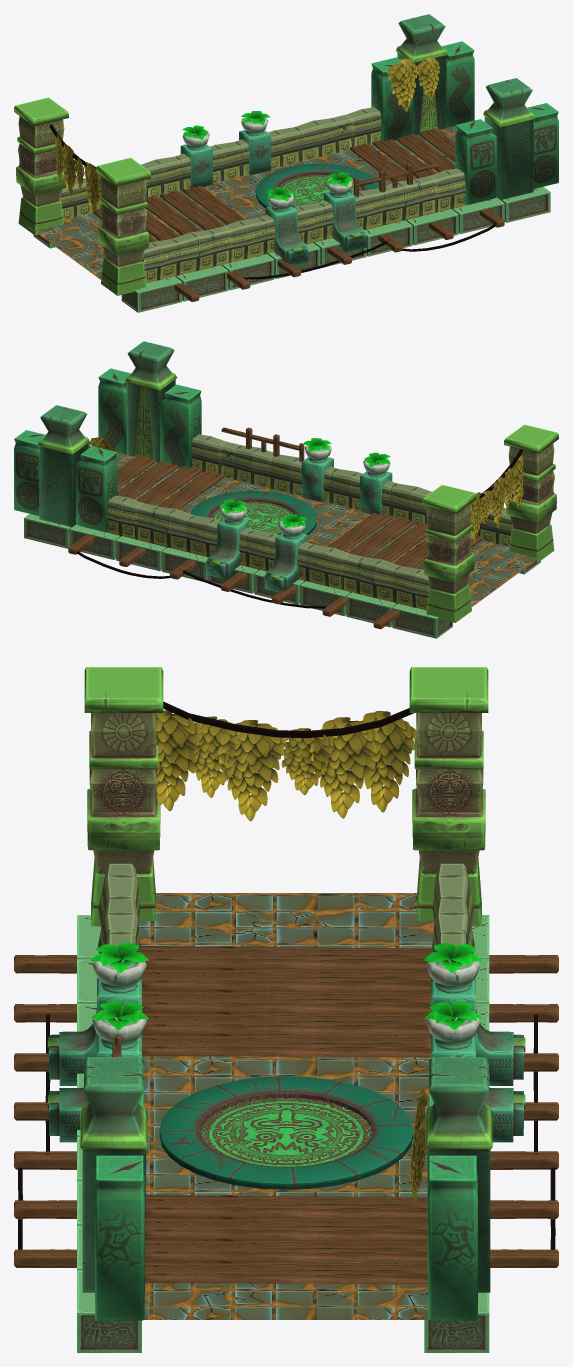
The model's file is bridge_south.obj.
The picture shows the model from 3 angles, top to bottom: view 1: azimuth 30°, elevation 25°; view 2: azimuth 150°, elevation 25°; view 3: azimuth 270°, elevation 25°; orthographic projection. The views are drawn at different scales.
Parts seen in each view (by area): view 1: column1.000, column3.000, brick.004, column4.000, terrain, fence.000, column2.000, fence.001, fence.003, wood1.009, wood1.008, circle1.000 (+11 smaller); view 2: column1.000, column3.000, column4.000, brick.005, terrain, fence.000, column2.000, fence.001, wood1.008, wood1.009, fence.003, circle1.000 (+9 smaller); view 3: terrain, column1.000, wood1.009, wood1.008, circle1.000, column3.000, column4.000, wood1.001, column2.000, fence.001, brick.004, pot.000 (+10 smaller).
Boxes of the visible parts, left/top/right/bottom form: column1.000: left=14, top=97, right=150, bottom=295; column3.000: left=371, top=41, right=558, bottom=204; brick.004: left=121, top=186, right=550, bottom=312; column4.000: left=396, top=14, right=535, bottom=200; terrain: left=27, top=126, right=456, bottom=284; fence.000: left=268, top=114, right=437, bottom=229; column2.000: left=180, top=130, right=366, bottom=265; fence.001: left=60, top=178, right=231, bottom=283; fence.003: left=141, top=153, right=275, bottom=262; wood1.009: left=93, top=186, right=245, bottom=242; wood1.008: left=350, top=128, right=455, bottom=181; circle1.000: left=255, top=163, right=379, bottom=207; column1.000: left=422, top=424, right=558, bottom=622; column3.000: left=14, top=368, right=201, bottom=531; column4.000: left=37, top=341, right=177, bottom=527; brick.005: left=24, top=514, right=452, bottom=638; terrain: left=116, top=453, right=544, bottom=612; fence.000: left=135, top=441, right=304, bottom=556; column2.000: left=206, top=457, right=392, bottom=592; fence.001: left=341, top=506, right=512, bottom=610; wood1.008: left=117, top=455, right=224, bottom=509; wood1.009: left=327, top=513, right=482, bottom=569; fence.003: left=297, top=480, right=431, bottom=589; circle1.000: left=190, top=491, right=317, bottom=534; terrain: left=138, top=893, right=434, bottom=1319; column1.000: left=84, top=667, right=488, bottom=926; wood1.009: left=139, top=946, right=433, bottom=1057; wood1.008: left=145, top=1195, right=427, bottom=1284; circle1.000: left=159, top=1076, right=413, bottom=1189; column3.000: left=95, top=1093, right=477, bottom=1320; column4.000: left=80, top=1057, right=492, bottom=1292; wood1.001: left=14, top=955, right=558, bottom=1267; column2.000: left=47, top=978, right=525, bottom=1142; fence.001: left=98, top=863, right=474, bottom=953; brick.004: left=77, top=915, right=141, bottom=1352; pot.000: left=92, top=959, right=480, bottom=1049.
Bounding box in the file's own units: 766 × 223 × 410.
